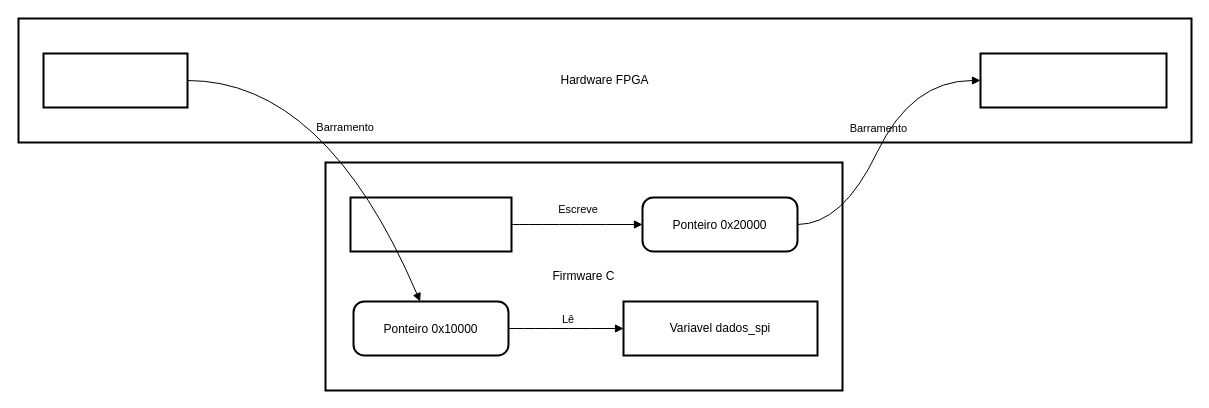
The diagram is 1209 pixels wide and 408 high, and some of its shapes have lost their labels. Each missing label, with the centre of its shape:
IP Core SPI: the point at 115,80
Loop Principal: the point at 430,224
Registrador LEDs: the point at 1073,80
